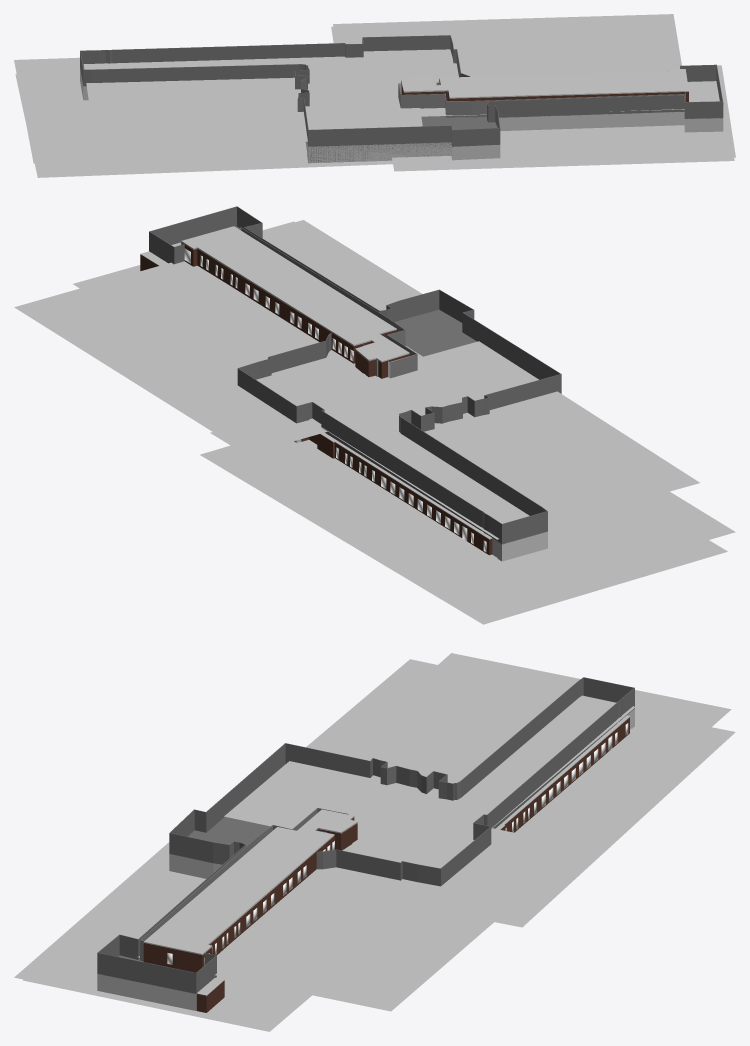
Rendered from fbxtest.fbx.
3 views of the same model, one above another, from view 1: azimuth 30°, elevation 25°; view 2: azimuth 150°, elevation 25°; view 3: azimuth 270°, elevation 25° (orthographic). The views are drawn at different scales.
Visible parts, largest first — view 1: Old Forge Elem Wing.001, Elementary Wing.001, 2nd Floor Old Forge High School Main Entrance, 2nd Floor Old Forge High School Main Entrance.001, Old Forge High School Main Entrance.001, Old Forge Elem Main Entrance.001, Roof High School, Elementary School Main Entrance.001, Old Forge High School Main Entrance, Old Forge Elem Main Entrance, Old Forge Elem Wing, 2nd Floor High School .001 (+1 smaller); view 2: Old Forge Elem Wing.001, 2nd Floor Old Forge High School Main Entrance.001, Elementary Wing.001, 2nd Floor Old Forge High School Main Entrance, Old Forge Elem Main Entrance.001, Roof High School, Old Forge Elem Main Entrance, Old Forge High School Main Entrance.001, Old Forge Elem Wing, Old Forge High School Main Entrance, 2nd Floor High School .001, Elementary School Main Entrance.001; view 3: Old Forge Elem Wing.001, 2nd Floor Old Forge High School Main Entrance.001, Elementary Wing.001, Roof High School, Old Forge High School Main Entrance.001, Old Forge Elem Main Entrance.001, Old Forge Elem Main Entrance, Old Forge High School Main Entrance, Elementary School Main Entrance.001, 2nd Floor Old Forge High School Main Entrance, Old Forge Elem Wing, 2nd Floor High School .001.
Boxes of the visible parts, <box> form: Old Forge Elem Wing.001: <box>83,54,422,146</box>; Elementary Wing.001: <box>80,35,723,146</box>; 2nd Floor Old Forge High School Main Entrance: <box>333,14,681,113</box>; 2nd Floor Old Forge High School Main Entrance.001: <box>331,17,684,116</box>; Old Forge High School Main Entrance.001: <box>392,69,734,171</box>; Old Forge Elem Main Entrance.001: <box>14,57,307,163</box>; Roof High School: <box>401,69,719,101</box>; Elementary School Main Entrance.001: <box>80,68,723,163</box>; Old Forge High School Main Entrance: <box>405,65,735,166</box>; Old Forge Elem Main Entrance: <box>15,74,392,177</box>; Old Forge Elem Wing: <box>96,141,306,158</box>; 2nd Floor High School .001: <box>398,82,685,117</box>; Old Forge Elem Wing.001: <box>282,341,699,539</box>; 2nd Floor Old Forge High School Main Entrance.001: <box>24,261,422,452</box>; Elementary Wing.001: <box>149,206,561,544</box>; 2nd Floor Old Forge High School Main Entrance: <box>14,261,362,452</box>; Old Forge Elem Main Entrance.001: <box>210,432,735,603</box>; Roof High School: <box>140,226,492,555</box>; Old Forge Elem Main Entrance: <box>200,445,727,624</box>; Old Forge High School Main Entrance.001: <box>83,220,422,310</box>; Old Forge Elem Wing: <box>293,440,685,562</box>; Old Forge High School Main Entrance: <box>73,221,412,310</box>; 2nd Floor High School .001: <box>238,227,417,378</box>; Elementary School Main Entrance.001: <box>294,439,547,561</box>; Old Forge Elem Wing.001: <box>224,659,635,863</box>; 2nd Floor Old Forge High School Main Entrance.001: <box>138,828,574,1008</box>; Elementary Wing.001: <box>97,677,634,993</box>; Roof High School: <box>143,715,630,1012</box>; Old Forge High School Main Entrance.001: <box>14,842,301,1028</box>; Old Forge Elem Main Entrance.001: <box>438,653,731,846</box>; Old Forge Elem Main Entrance: <box>495,727,735,927</box>; Old Forge High School Main Entrance: <box>22,855,311,1031</box>; Elementary School Main Entrance.001: <box>97,709,634,1010</box>; 2nd Floor Old Forge High School Main Entrance: <box>215,846,579,1011</box>; Old Forge Elem Wing: <box>514,728,647,835</box>; 2nd Floor High School .001: <box>140,808,351,961</box>.
Size of the model in its own units: 28835 by 2282 by 23174.
